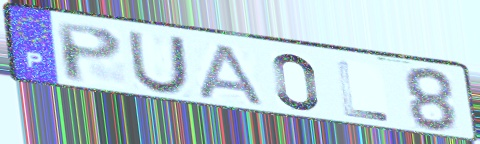0: (270, 52, 321, 113)
8: (402, 66, 461, 135)
A: (195, 41, 267, 108)
L: (335, 58, 392, 124)
P: (52, 20, 126, 86)
U: (125, 29, 191, 97)
